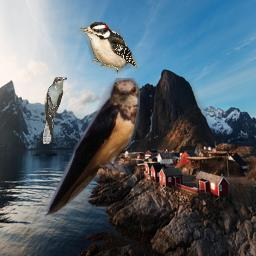Cuckoo: (42, 76, 67, 144)
Swallow: (45, 78, 140, 220)
Woodpecker: (78, 22, 137, 74)
